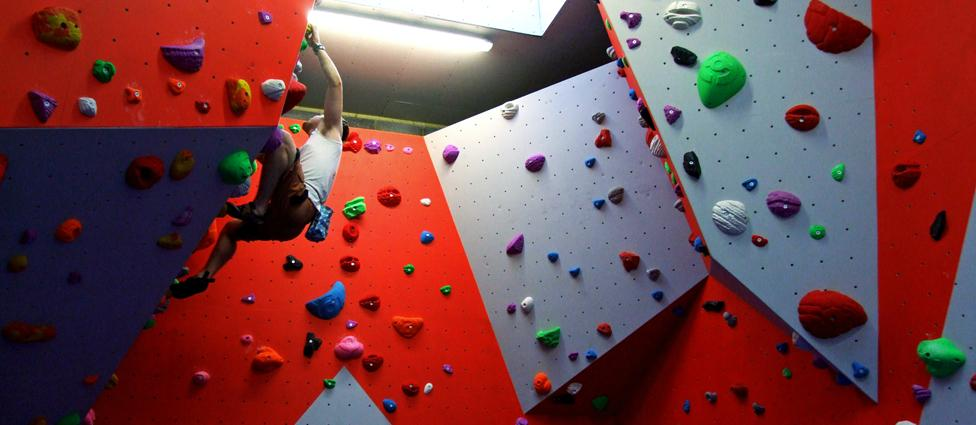black-hold: (791, 0, 874, 68), (680, 42, 756, 116), (796, 289, 870, 341), (909, 327, 970, 387), (303, 279, 357, 329), (212, 143, 262, 193), (159, 37, 210, 78), (185, 218, 227, 260), (17, 86, 60, 127), (761, 185, 805, 223), (274, 76, 310, 122), (247, 342, 286, 381), (331, 331, 369, 369), (129, 153, 168, 190), (711, 200, 748, 236), (255, 125, 290, 160), (51, 214, 86, 248), (257, 71, 291, 105), (665, 42, 701, 73), (889, 160, 923, 192), (374, 180, 406, 213), (293, 329, 325, 360), (785, 104, 820, 132), (338, 193, 371, 222), (502, 232, 532, 262), (679, 149, 704, 183), (616, 245, 644, 275), (391, 316, 425, 340), (534, 325, 565, 351), (661, 13, 703, 31), (279, 253, 306, 279), (657, 101, 683, 128), (522, 150, 549, 176), (787, 330, 814, 356), (645, 134, 668, 164), (437, 141, 463, 167), (338, 220, 364, 245), (93, 60, 116, 84), (164, 76, 188, 99), (663, 0, 702, 14), (729, 378, 752, 401), (930, 211, 947, 240), (191, 367, 213, 389), (362, 135, 384, 157), (517, 295, 538, 317), (719, 309, 740, 329), (748, 232, 770, 251), (534, 372, 552, 395), (343, 132, 362, 153), (620, 11, 642, 29), (640, 126, 657, 149), (78, 97, 98, 116), (417, 228, 437, 247), (850, 361, 870, 380), (339, 255, 360, 273), (358, 295, 381, 311), (808, 222, 827, 241), (741, 174, 760, 193), (594, 129, 612, 149), (362, 355, 383, 372), (911, 385, 932, 402), (607, 186, 624, 206), (671, 197, 688, 217), (57, 412, 82, 425), (910, 129, 928, 147), (124, 86, 143, 103), (591, 194, 608, 212), (703, 388, 721, 405), (174, 209, 192, 225), (604, 45, 620, 63), (702, 301, 726, 313), (590, 110, 607, 126), (690, 236, 706, 253), (382, 397, 398, 414), (194, 100, 212, 115), (625, 34, 641, 50), (501, 103, 518, 118), (583, 155, 600, 170), (831, 163, 845, 181), (632, 97, 647, 113), (401, 261, 417, 276), (401, 383, 419, 396), (239, 332, 254, 347), (344, 318, 359, 333), (626, 88, 641, 103), (258, 11, 273, 25), (597, 322, 612, 336), (592, 396, 608, 409), (566, 383, 583, 395), (584, 346, 598, 360), (646, 268, 660, 282), (567, 266, 582, 279), (614, 57, 627, 71), (680, 400, 692, 415), (298, 39, 310, 54), (686, 231, 697, 247), (752, 0, 777, 7), (776, 342, 789, 355), (781, 367, 793, 381), (240, 294, 255, 305), (441, 363, 453, 376), (616, 67, 628, 80), (620, 56, 631, 70), (753, 402, 764, 416), (546, 252, 559, 263), (423, 382, 434, 395), (603, 18, 613, 32), (894, 419, 917, 425), (323, 379, 336, 389), (669, 172, 678, 186), (652, 290, 663, 301), (507, 302, 517, 314), (440, 285, 452, 295), (288, 124, 301, 133), (970, 373, 976, 392), (515, 417, 529, 425), (639, 116, 648, 128), (420, 198, 431, 206), (568, 352, 579, 360), (402, 147, 414, 154), (385, 143, 395, 151), (665, 162, 671, 173), (278, 123, 285, 130)
